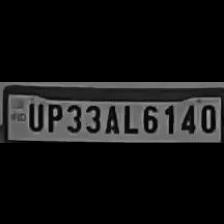0: (198, 100, 216, 132)
1: (160, 100, 176, 134)
3: (82, 99, 102, 133), (64, 98, 82, 132)
4: (176, 100, 196, 132)
6: (139, 101, 159, 133)
A: (103, 100, 121, 134)
L: (119, 100, 136, 134)
P: (43, 98, 62, 132)
U: (24, 99, 43, 131)
